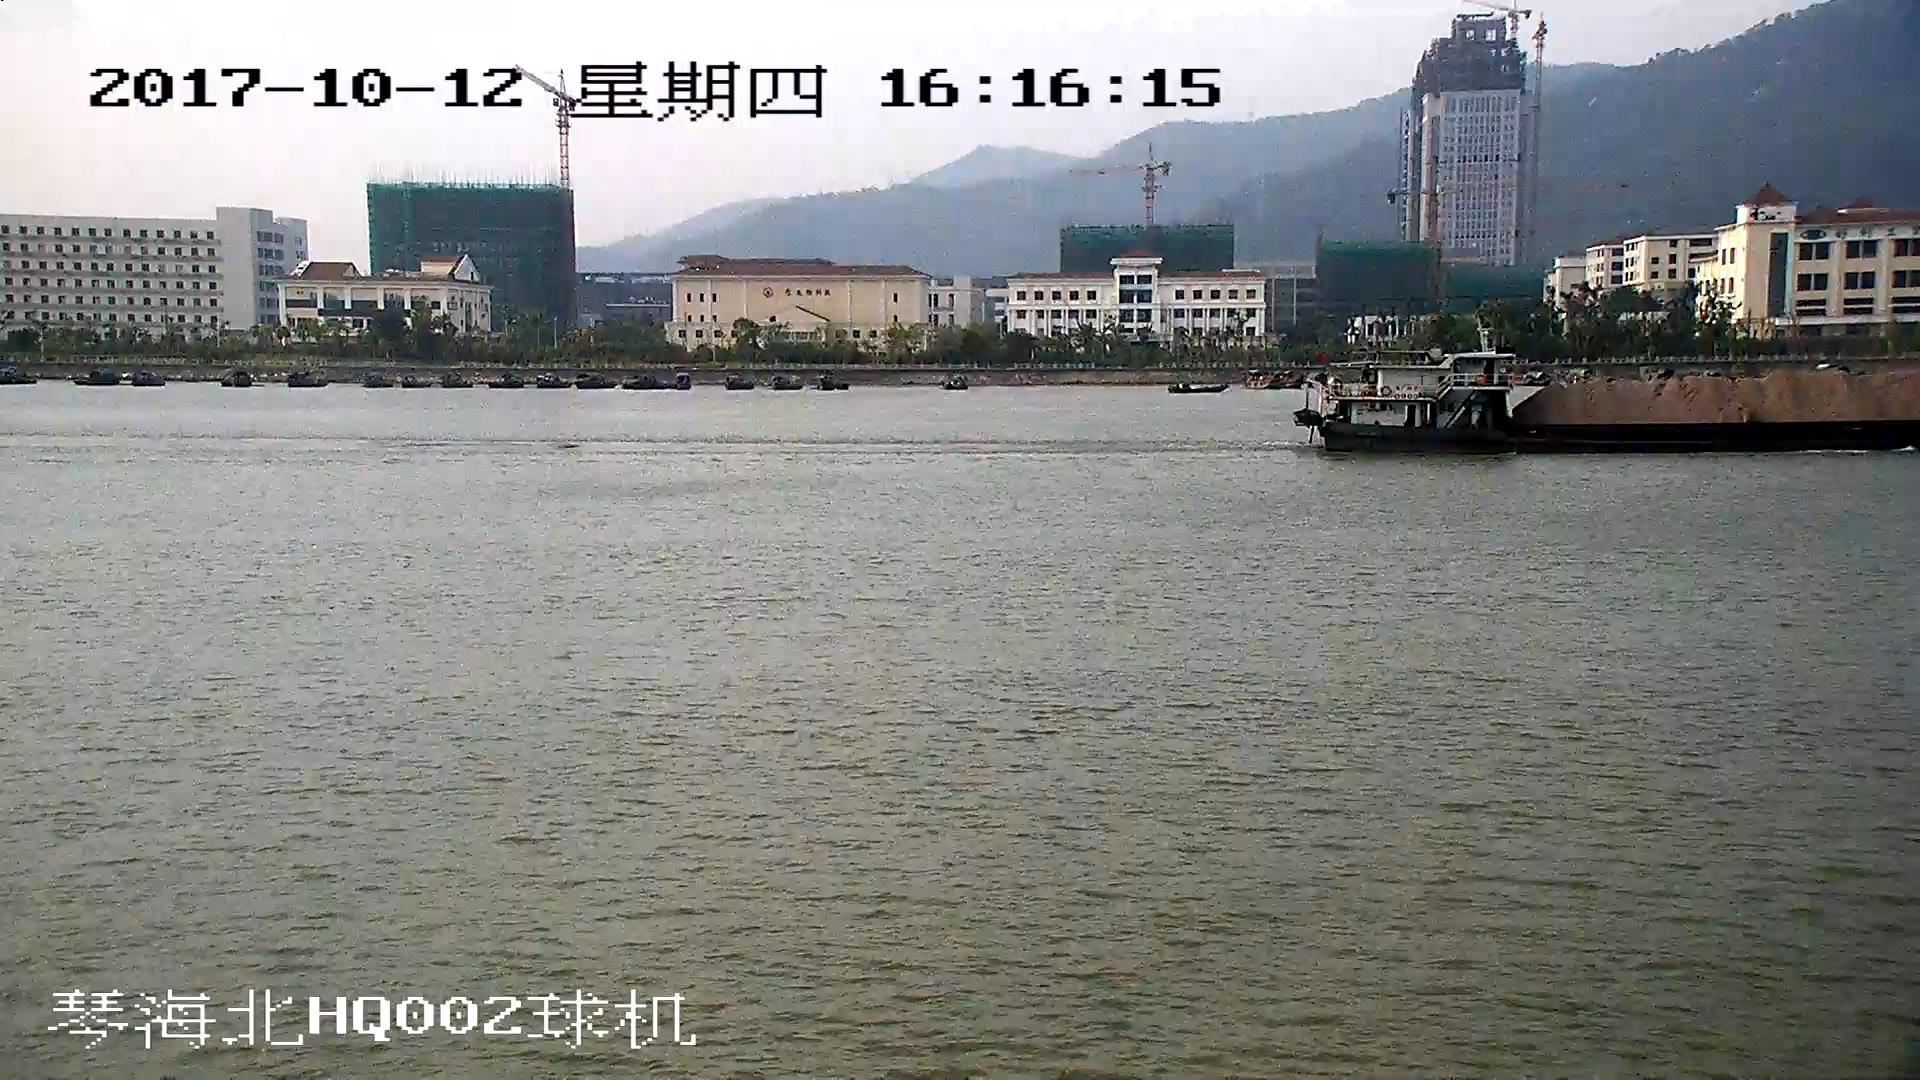ore carrier: (1300, 360, 1920, 453)
